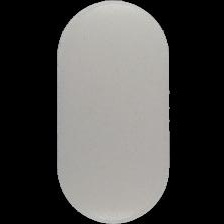60760-042: (0, 0, 224, 224)
